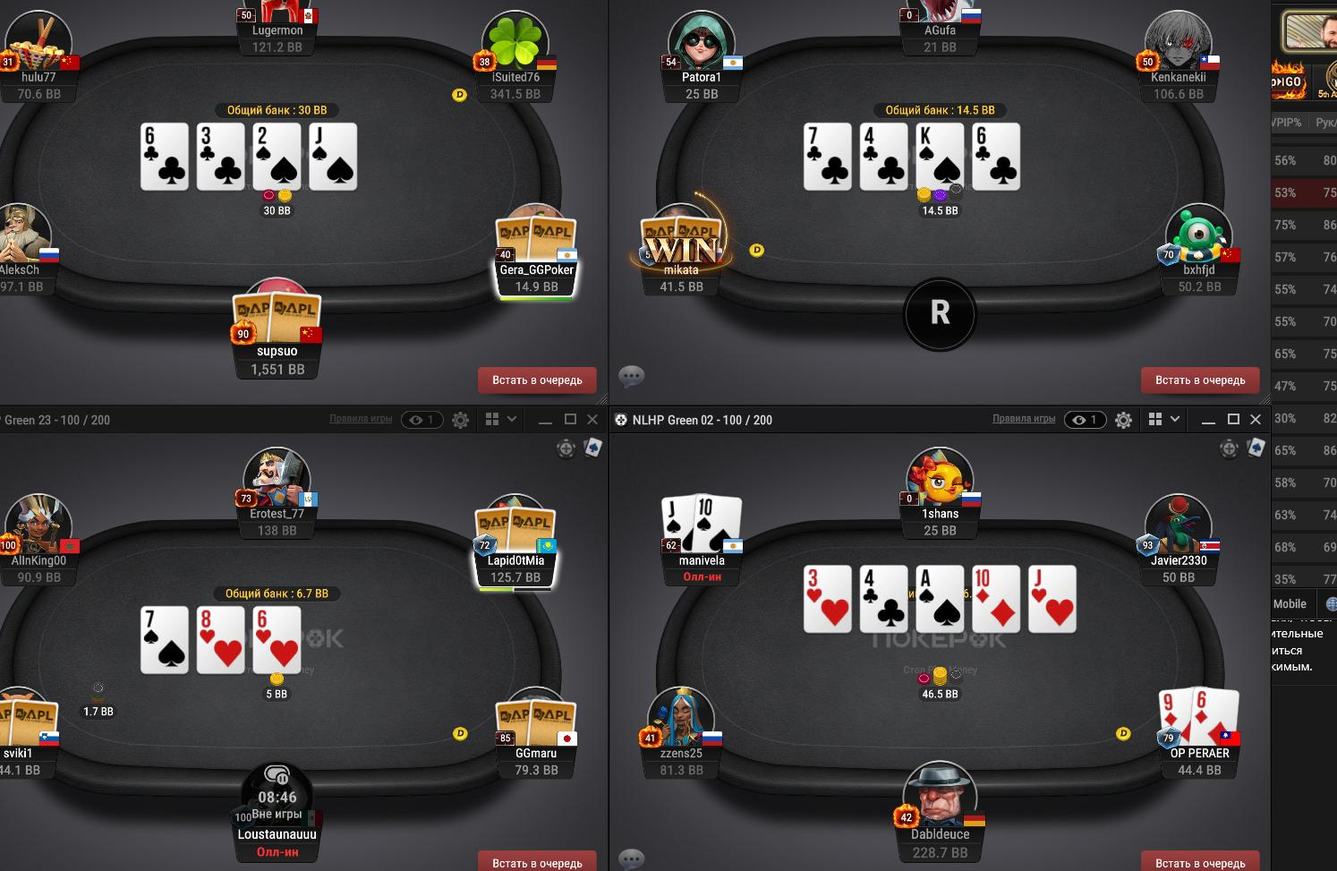10d: (972, 566, 1021, 627)
10s: (695, 493, 743, 556)
2s: (252, 120, 302, 189)
3c: (199, 124, 245, 190)
3h: (804, 565, 853, 631)
4c: (858, 121, 909, 192), (861, 565, 908, 634)
6c: (140, 123, 190, 190), (973, 123, 1023, 189)
6d: (1192, 687, 1242, 750)
6h: (252, 605, 301, 671)
7c: (804, 123, 855, 190)
7s: (139, 606, 190, 672)
8h: (199, 607, 245, 675)
9d: (1159, 688, 1195, 749)
As: (915, 563, 965, 631)
Jh: (1029, 565, 1078, 634)
Js: (309, 125, 356, 190), (660, 495, 697, 555)
Ks: (915, 121, 965, 190)
